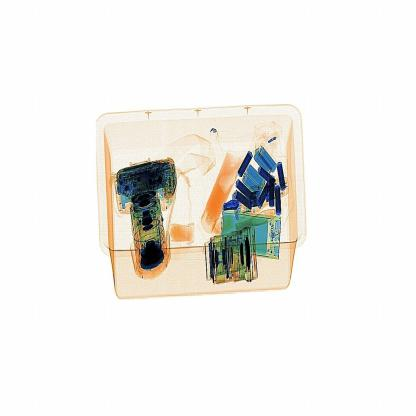knife: (223, 192, 247, 216)
